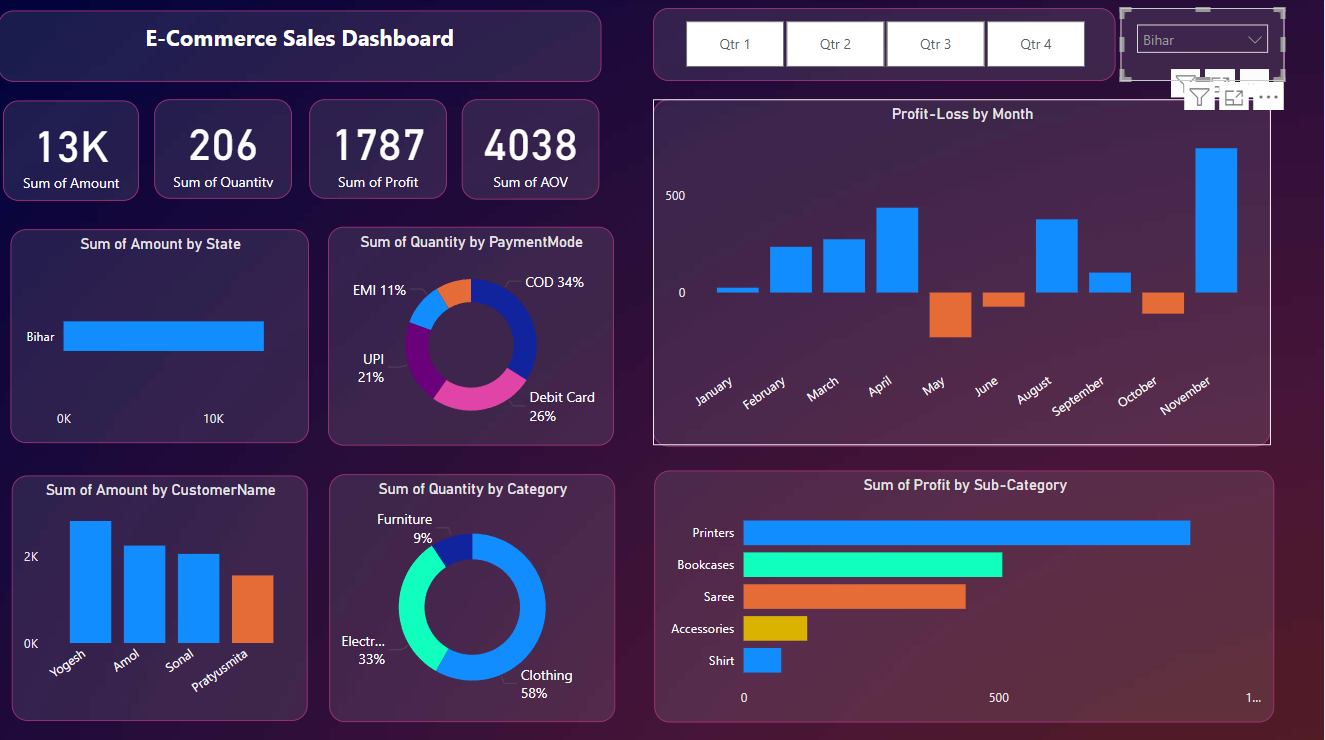

What the dashboard file says about the page in this screenshot:
{"tool":"powerbi","page":{"name":"Page 1","canvas":[1280,720],"ordinal":0},"visuals":[{"type":"textbox","box":[0,12.2,582.4,68.9],"z":0},{"type":"columnChart","title":"Profit-Loss by Month","fields":{"Y":["Details.Profit"],"Category":["Orders.Order Date.Variation.Date Hierarchy.Month"]},"box":[632.4,97.3,595.9,335.1],"z":1000},{"type":"barChart","fields":{"Category":["Details.Sub-Category"],"Y":["Details.Profit"]},"box":[633.8,455.7,598.6,243],"z":2000},{"type":"donutChart","fields":{"Category":["Details.Category"],"Y":["Details.Quantity"]},"box":[319.7,460,275.7,239.2],"z":3000},{"type":"donutChart","fields":{"Y":["Details.Quantity"],"Category":["Details.PaymentMode"]},"box":[318.1,221.1,275.7,210.8],"z":4000},{"type":"card","fields":{"Values":["Details.Amount"]},"box":[5.4,98.6,131.1,96.5],"z":5000},{"type":"card","fields":{"Values":["Details.Quantity"]},"box":[151.4,97.8,132.4,95.9],"z":6000},{"type":"card","fields":{"Values":["Details.Profit"]},"box":[300.3,97.6,132.4,95.9],"z":7000},{"type":"card","fields":{"Values":["Details.AOV"]},"box":[447.3,97.3,132.4,96.8],"z":8000},{"type":"barChart","fields":{"Category":["Orders.State"],"Y":["Details.Amount"]},"box":[12.2,223,288.1,206.8],"z":9000},{"type":"columnChart","fields":{"Category":["Orders.CustomerName"],"Y":["Details.Amount"]},"box":[13.5,460.8,285.9,236.5],"z":10000},{"type":"slicer","fields":{"Values":["Orders.Order Date.Variation.Date Hierarchy.Quarter"]},"box":[632.4,9.5,446.8,70.3],"z":11000},{"type":"slicer","fields":{"Values":["Orders.State"]},"box":[1083,9.2,158.1,70.3],"z":12000}]}

Visuals, with their boxes on the page's 1280x720 design canvas (x1, y1, x2, y2). These are canvas units, not pixel positions in the 1325x740 screenshot, which may show the page scaled, cropped or inside an application window:
textbox: 0, 12, 582, 81
"Profit-Loss by Month" columnChart: 632, 97, 1228, 432
barChart - Details.Sub-Category x Details.Profit: 634, 456, 1232, 699
donutChart - Details.Category x Details.Quantity: 320, 460, 595, 699
donutChart - Details.Quantity x Details.PaymentMode: 318, 221, 594, 432
card - Details.Amount: 5, 99, 136, 195
card - Details.Quantity: 151, 98, 284, 194
card - Details.Profit: 300, 98, 433, 194
card - Details.AOV: 447, 97, 580, 194
barChart - Orders.State x Details.Amount: 12, 223, 300, 430
columnChart - Orders.CustomerName x Details.Amount: 14, 461, 299, 697
slicer - Orders.Order Date.Variation.Date Hierarchy.Quarter: 632, 10, 1079, 80
slicer - Orders.State: 1083, 9, 1241, 80
